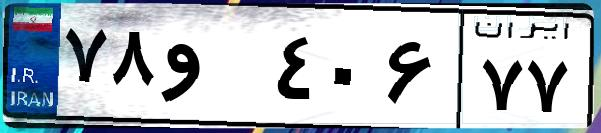0: (330, 28, 385, 110)
4: (270, 28, 330, 110)
6: (385, 28, 445, 110)
7: (57, 26, 110, 100), (475, 38, 525, 113), (525, 38, 570, 115)
8: (110, 28, 158, 98)
و: (158, 20, 270, 120)
